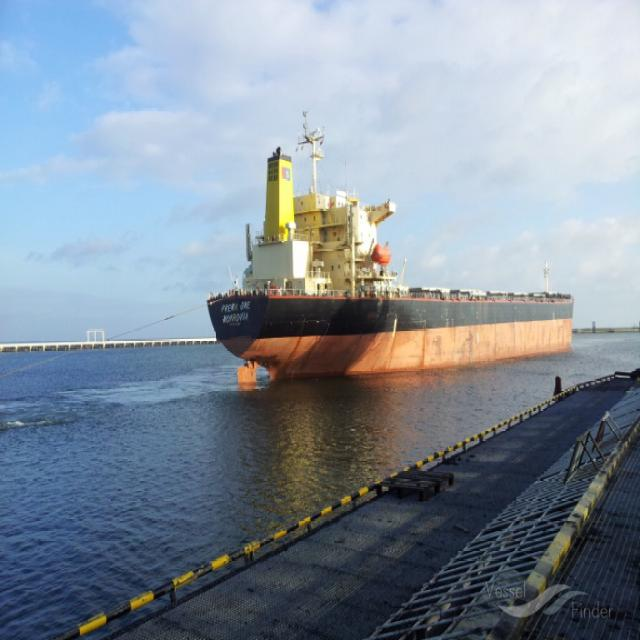OCR: (216, 301, 254, 343)
